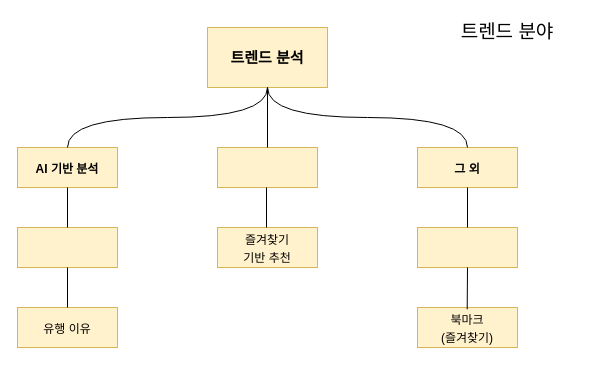
This 615x365 diagram has some shape labels left out. The shapes that lost their labels are listed below. From the top down, each one's centre as x and y in pixels, then its label:
the point at 267,167: 관련 키워드
the point at 67,247: 키워드 설명
the point at 467,247: 관련 게시글
